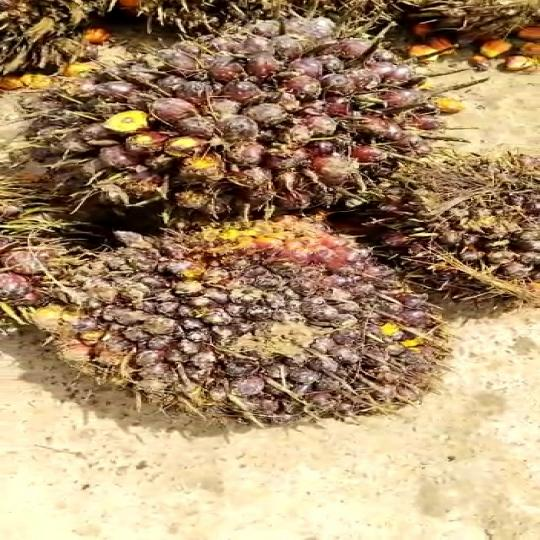kurang masak: (43, 217, 488, 454), (44, 0, 421, 231)
